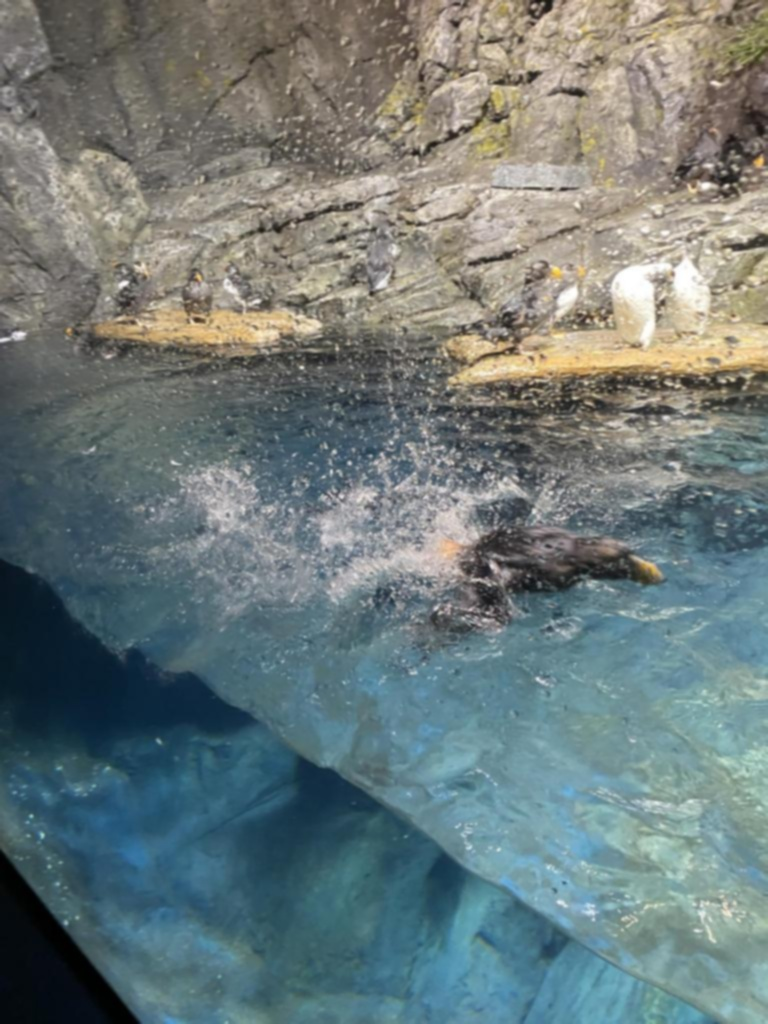puffin: (424, 517, 666, 643), (458, 256, 562, 356), (610, 260, 672, 348), (662, 254, 710, 340), (105, 258, 153, 328), (670, 123, 720, 189), (357, 226, 401, 294), (714, 137, 762, 199), (219, 260, 272, 316), (66, 322, 134, 360), (552, 262, 586, 334), (185, 266, 216, 326)
